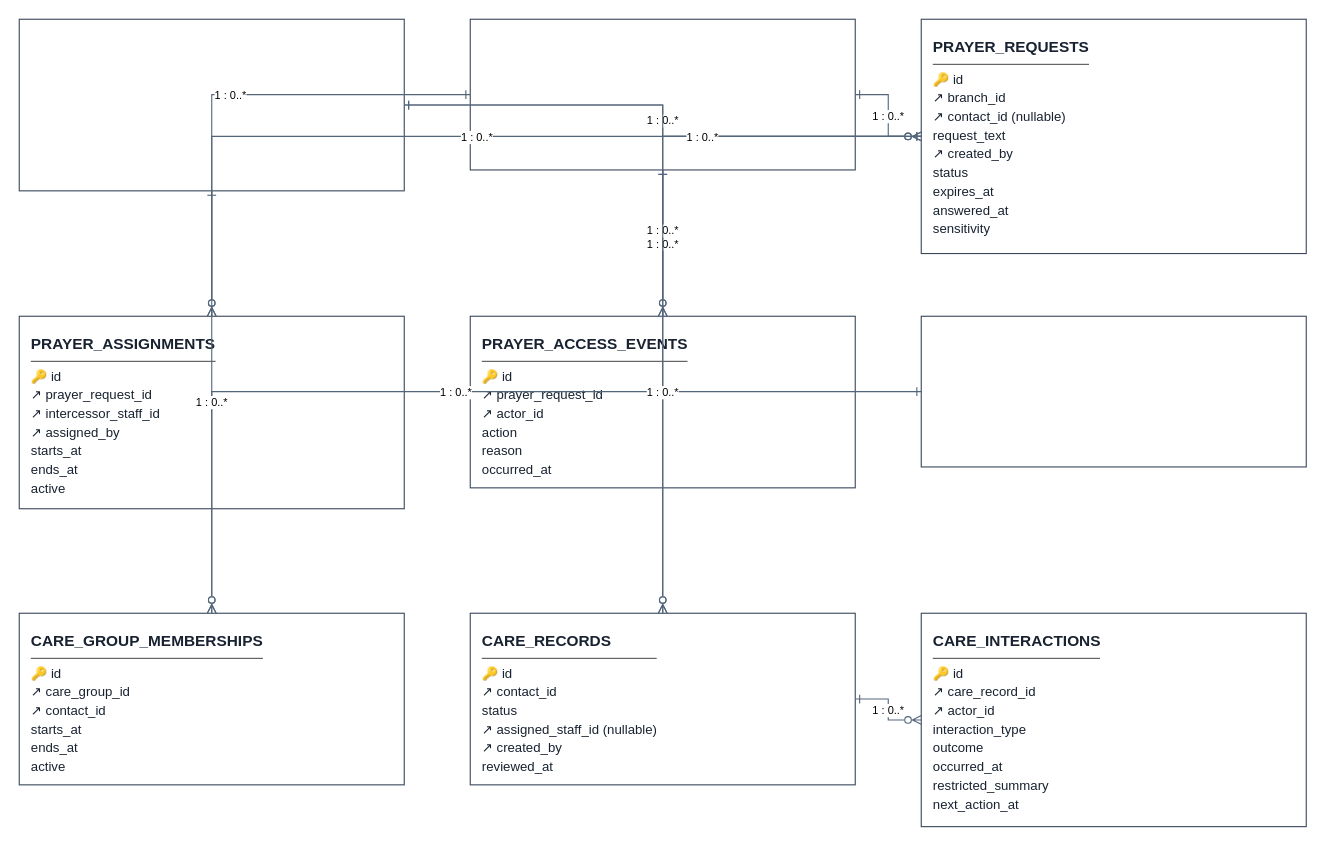
The diagram is 1326 pixels wide and 846 high, and some of its shapes have lost their labels. The shapes that lost their labels are listed below. From the top down, each one's centre as x and y in pixels, then its label:
At (211,104): "CONTACTS 🔑 id ↗ branch_id first_name last_name phone_e164 contact_status".
At (662,94): "STAFF_PROFILES 🔑 id ↗ auth_user_id full_name email active".
At (1113,391): "CARE_GROUPS 🔑 id ↗ branch_id name description active".
